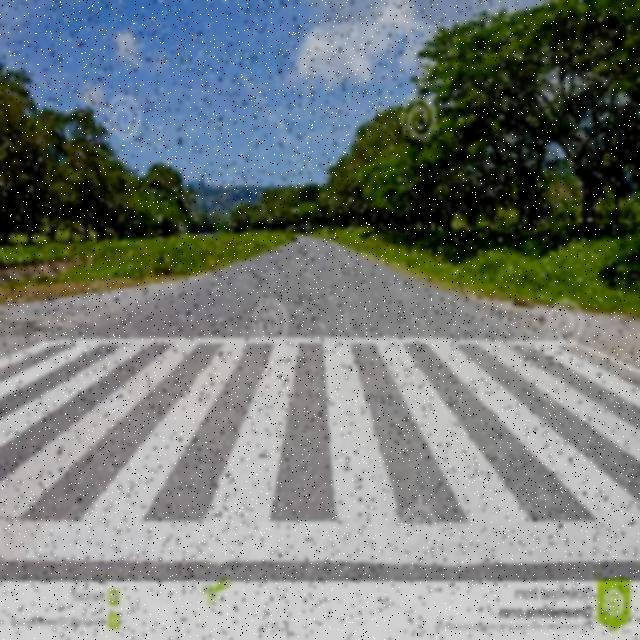Pedestrian crosswalk: (0, 326, 640, 572)
